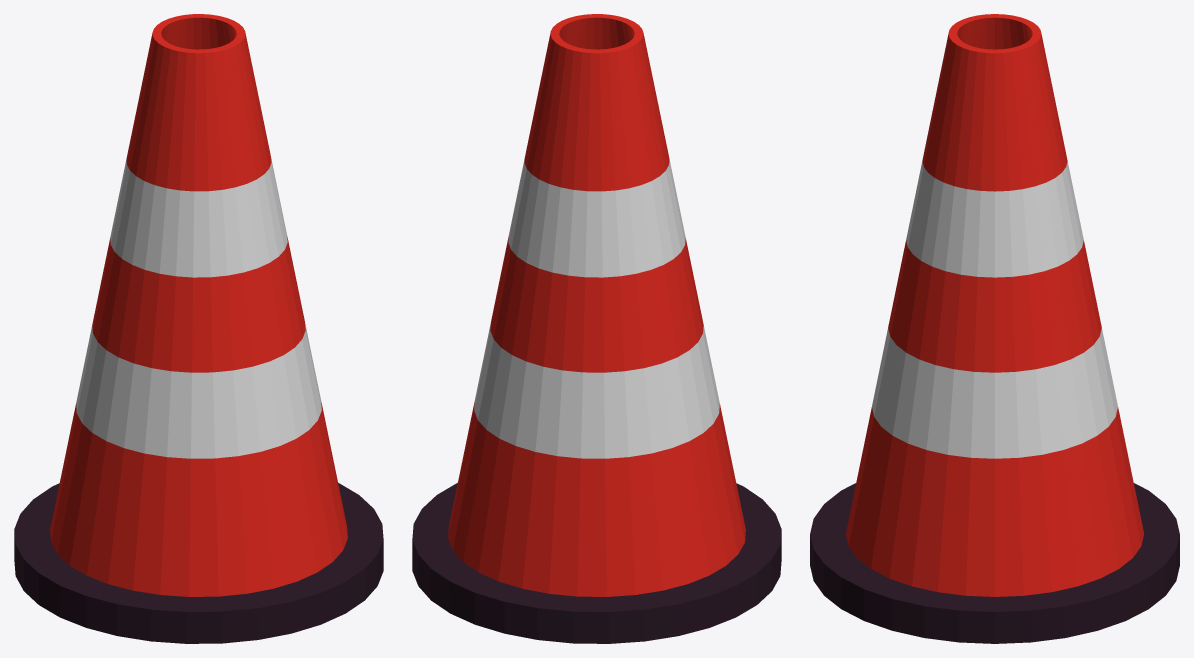
File: pawn.glb
3 renders of one model, left to right at view 1: azimuth 30°, elevation 25°; view 2: azimuth 150°, elevation 25°; view 3: azimuth 270°, elevation 25°, orthographic.
Parts seen in each view (by area): view 1: pawn-body, pawn-detail; view 2: pawn-body, pawn-detail; view 3: pawn-body, pawn-detail.
Part boxes in pixels (<box>): pawn-body: <box>50,14,347,596</box>; pawn-detail: <box>14,157,383,643</box>; pawn-body: <box>448,14,745,596</box>; pawn-detail: <box>412,157,781,643</box>; pawn-body: <box>846,14,1143,596</box>; pawn-detail: <box>810,161,1179,643</box>.
Bounding box in the file's own units: 0.457 × 0.7256 × 0.457.
